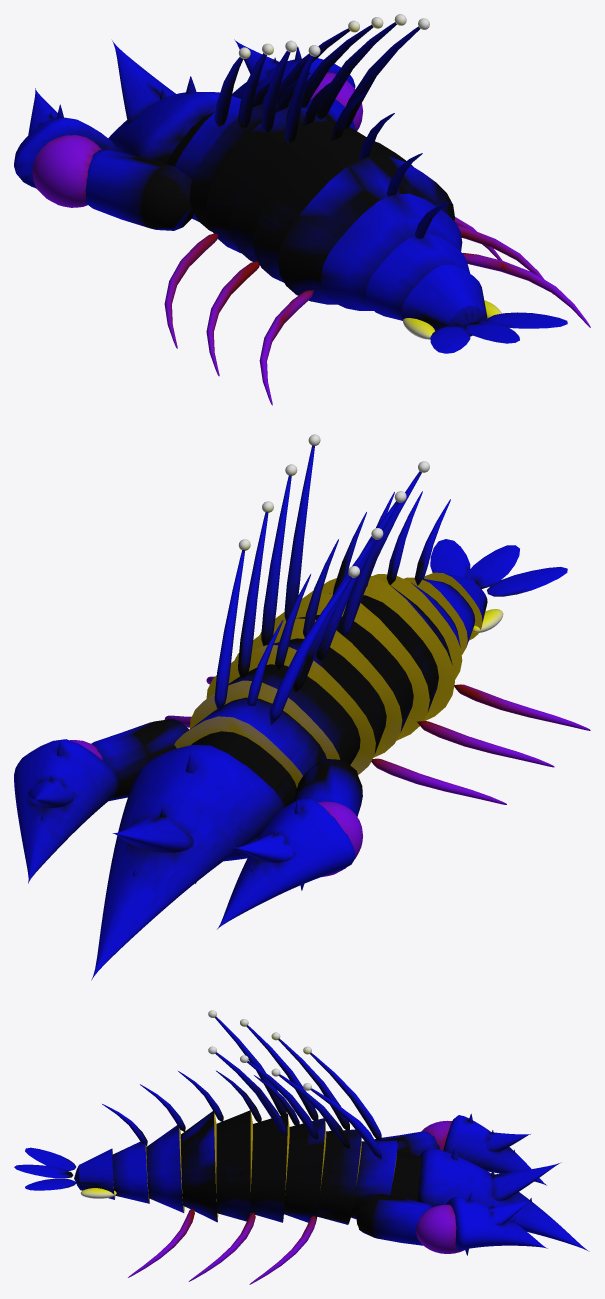
File: craigon_prime_synapse_flagship.fbx
3 views of the same model, one above another, from view 1: azimuth 30°, elevation 25°; view 2: azimuth 150°, elevation 25°; view 3: azimuth 270°, elevation 25° (orthographic). The views are drawn at different scales.
Visible parts, largest first — view 1: craigon_prime_synapse_flagship; view 2: craigon_prime_synapse_flagship; view 3: craigon_prime_synapse_flagship.
Boxes of the visible parts, box(x1,y1,x2,y2) form: craigon_prime_synapse_flagship: box(14, 14, 590, 405); craigon_prime_synapse_flagship: box(14, 434, 590, 980); craigon_prime_synapse_flagship: box(14, 1010, 589, 1284).
Bounding box in the file's own units: 1.61 × 1.5 × 3.5.
